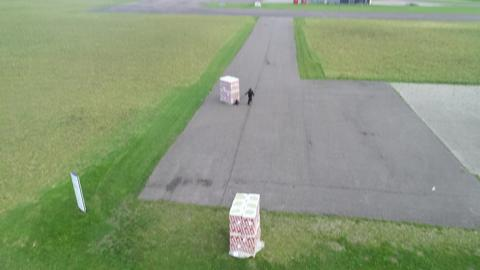RockwoolPallet: (219, 78, 240, 105)
